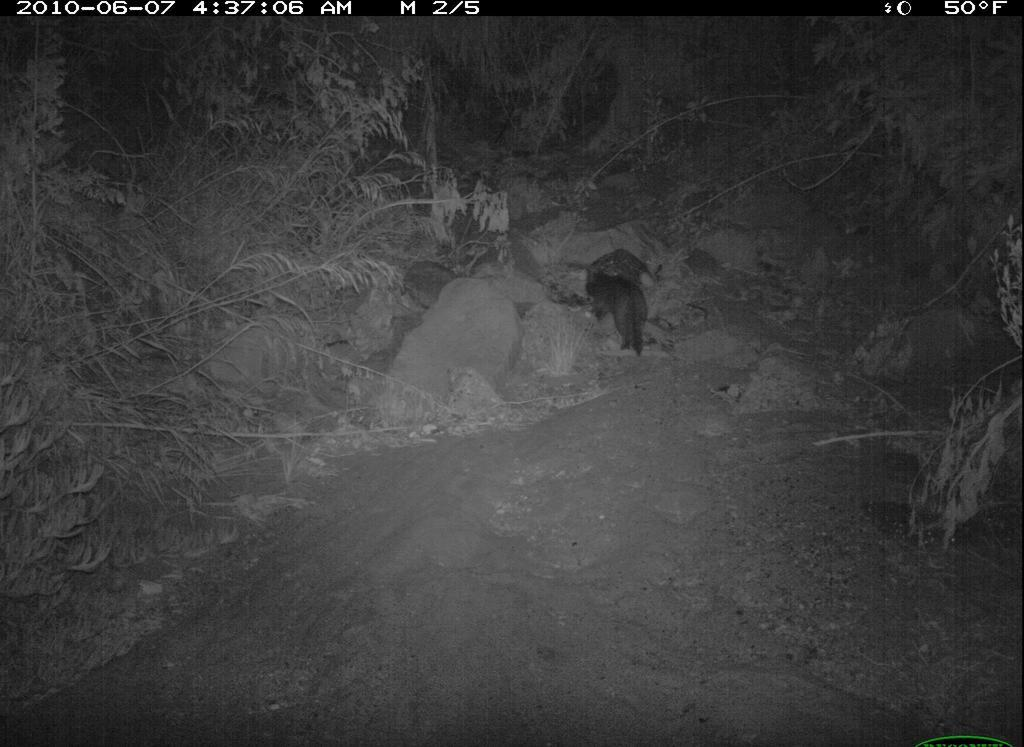cat: (579, 236, 670, 364)
